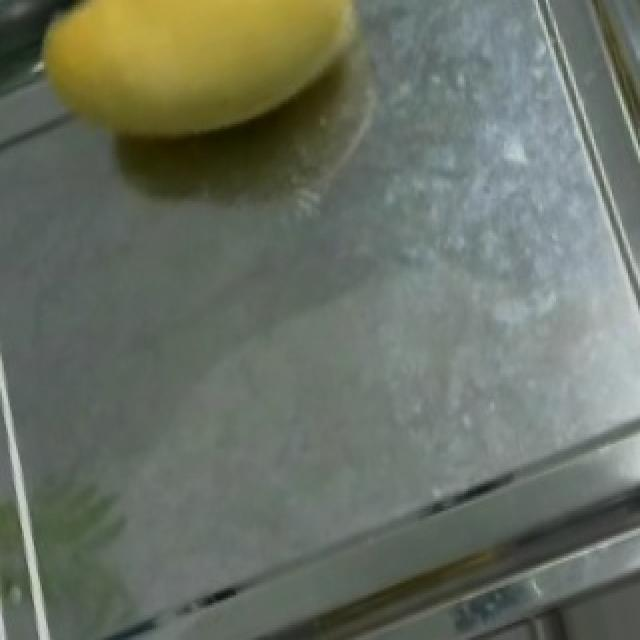fruit: (20, 0, 400, 181)
